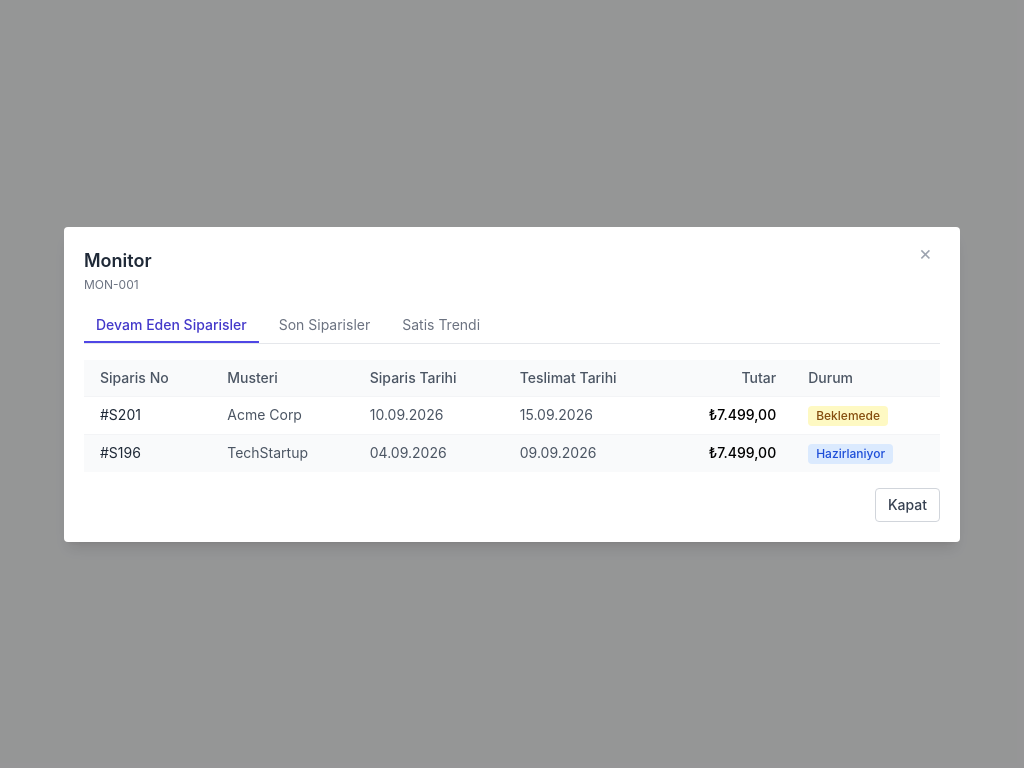
Test: ProductDetailModal › Tab 2ye gecince tum durumlardan siparisler gosterilir
Expected: the text "#S201" is shown, [84,396,211,434]
Click the button with test id "tab-recent" at [324, 326], box [267,308,382,342]
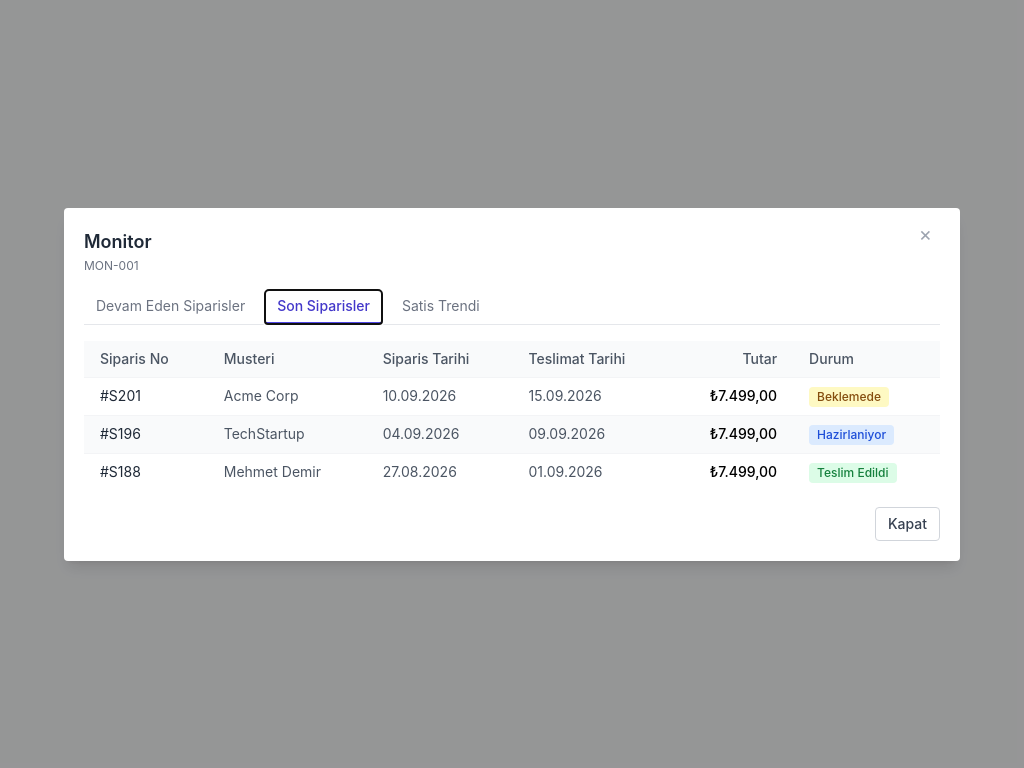
Expected: the text "#S188" is shown, [84,453,208,490]
